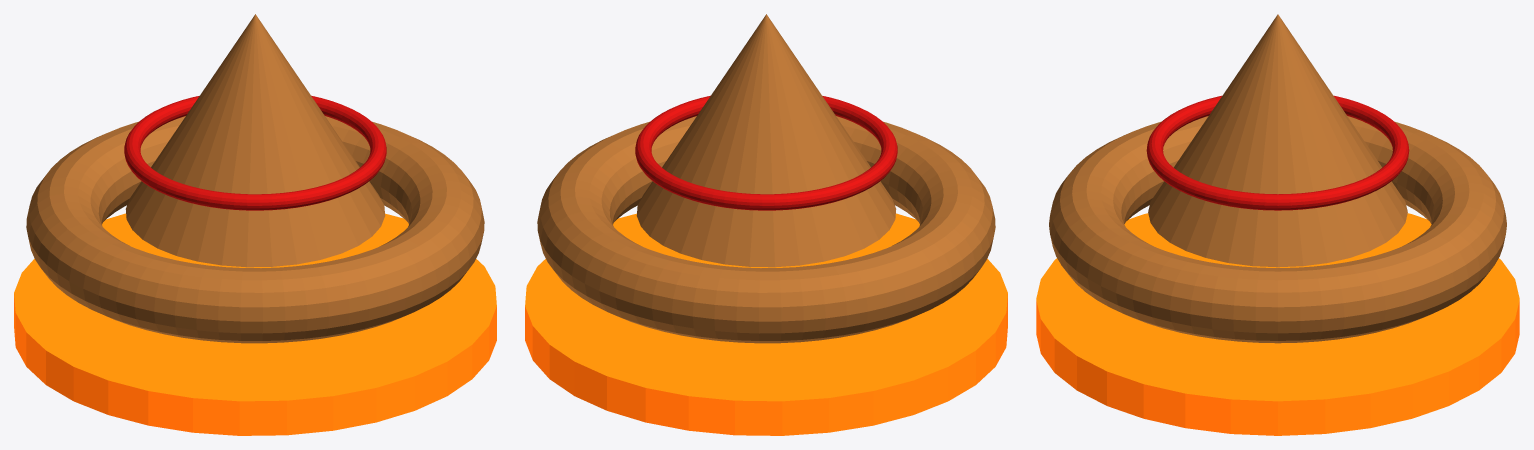
The model's file is spanish_sombrero.dae.
3 renders of one model, left to right at view 1: azimuth 30°, elevation 25°; view 2: azimuth 150°, elevation 25°; view 3: azimuth 270°, elevation 25°, orthographic.
Visible parts, largest first — view 1: 11_09_Popular_Spanish_Sombrero_part_01, 11_09_Popular_Spanish_Sombrero_ROOT_base, 11_09_Popular_Spanish_Sombrero_part_02, 11_09_Popular_Spanish_Sombrero_part_03; view 2: 11_09_Popular_Spanish_Sombrero_part_01, 11_09_Popular_Spanish_Sombrero_ROOT_base, 11_09_Popular_Spanish_Sombrero_part_02, 11_09_Popular_Spanish_Sombrero_part_03; view 3: 11_09_Popular_Spanish_Sombrero_part_01, 11_09_Popular_Spanish_Sombrero_ROOT_base, 11_09_Popular_Spanish_Sombrero_part_02, 11_09_Popular_Spanish_Sombrero_part_03.
Boxes of the visible parts, left/top/right/bottom form: 11_09_Popular_Spanish_Sombrero_part_01: left=26, top=116, right=484, bottom=343; 11_09_Popular_Spanish_Sombrero_ROOT_base: left=14, top=213, right=496, bottom=435; 11_09_Popular_Spanish_Sombrero_part_02: left=125, top=14, right=385, bottom=267; 11_09_Popular_Spanish_Sombrero_part_03: left=124, top=95, right=386, bottom=210; 11_09_Popular_Spanish_Sombrero_part_01: left=537, top=116, right=995, bottom=343; 11_09_Popular_Spanish_Sombrero_ROOT_base: left=525, top=213, right=1007, bottom=435; 11_09_Popular_Spanish_Sombrero_part_02: left=636, top=14, right=896, bottom=267; 11_09_Popular_Spanish_Sombrero_part_03: left=635, top=95, right=897, bottom=210; 11_09_Popular_Spanish_Sombrero_part_01: left=1049, top=116, right=1506, bottom=343; 11_09_Popular_Spanish_Sombrero_ROOT_base: left=1036, top=213, right=1519, bottom=435; 11_09_Popular_Spanish_Sombrero_part_02: left=1148, top=14, right=1407, bottom=267; 11_09_Popular_Spanish_Sombrero_part_03: left=1146, top=95, right=1409, bottom=210.
Bounding box in the file's own units: 0.76 × 0.5545 × 0.76.
